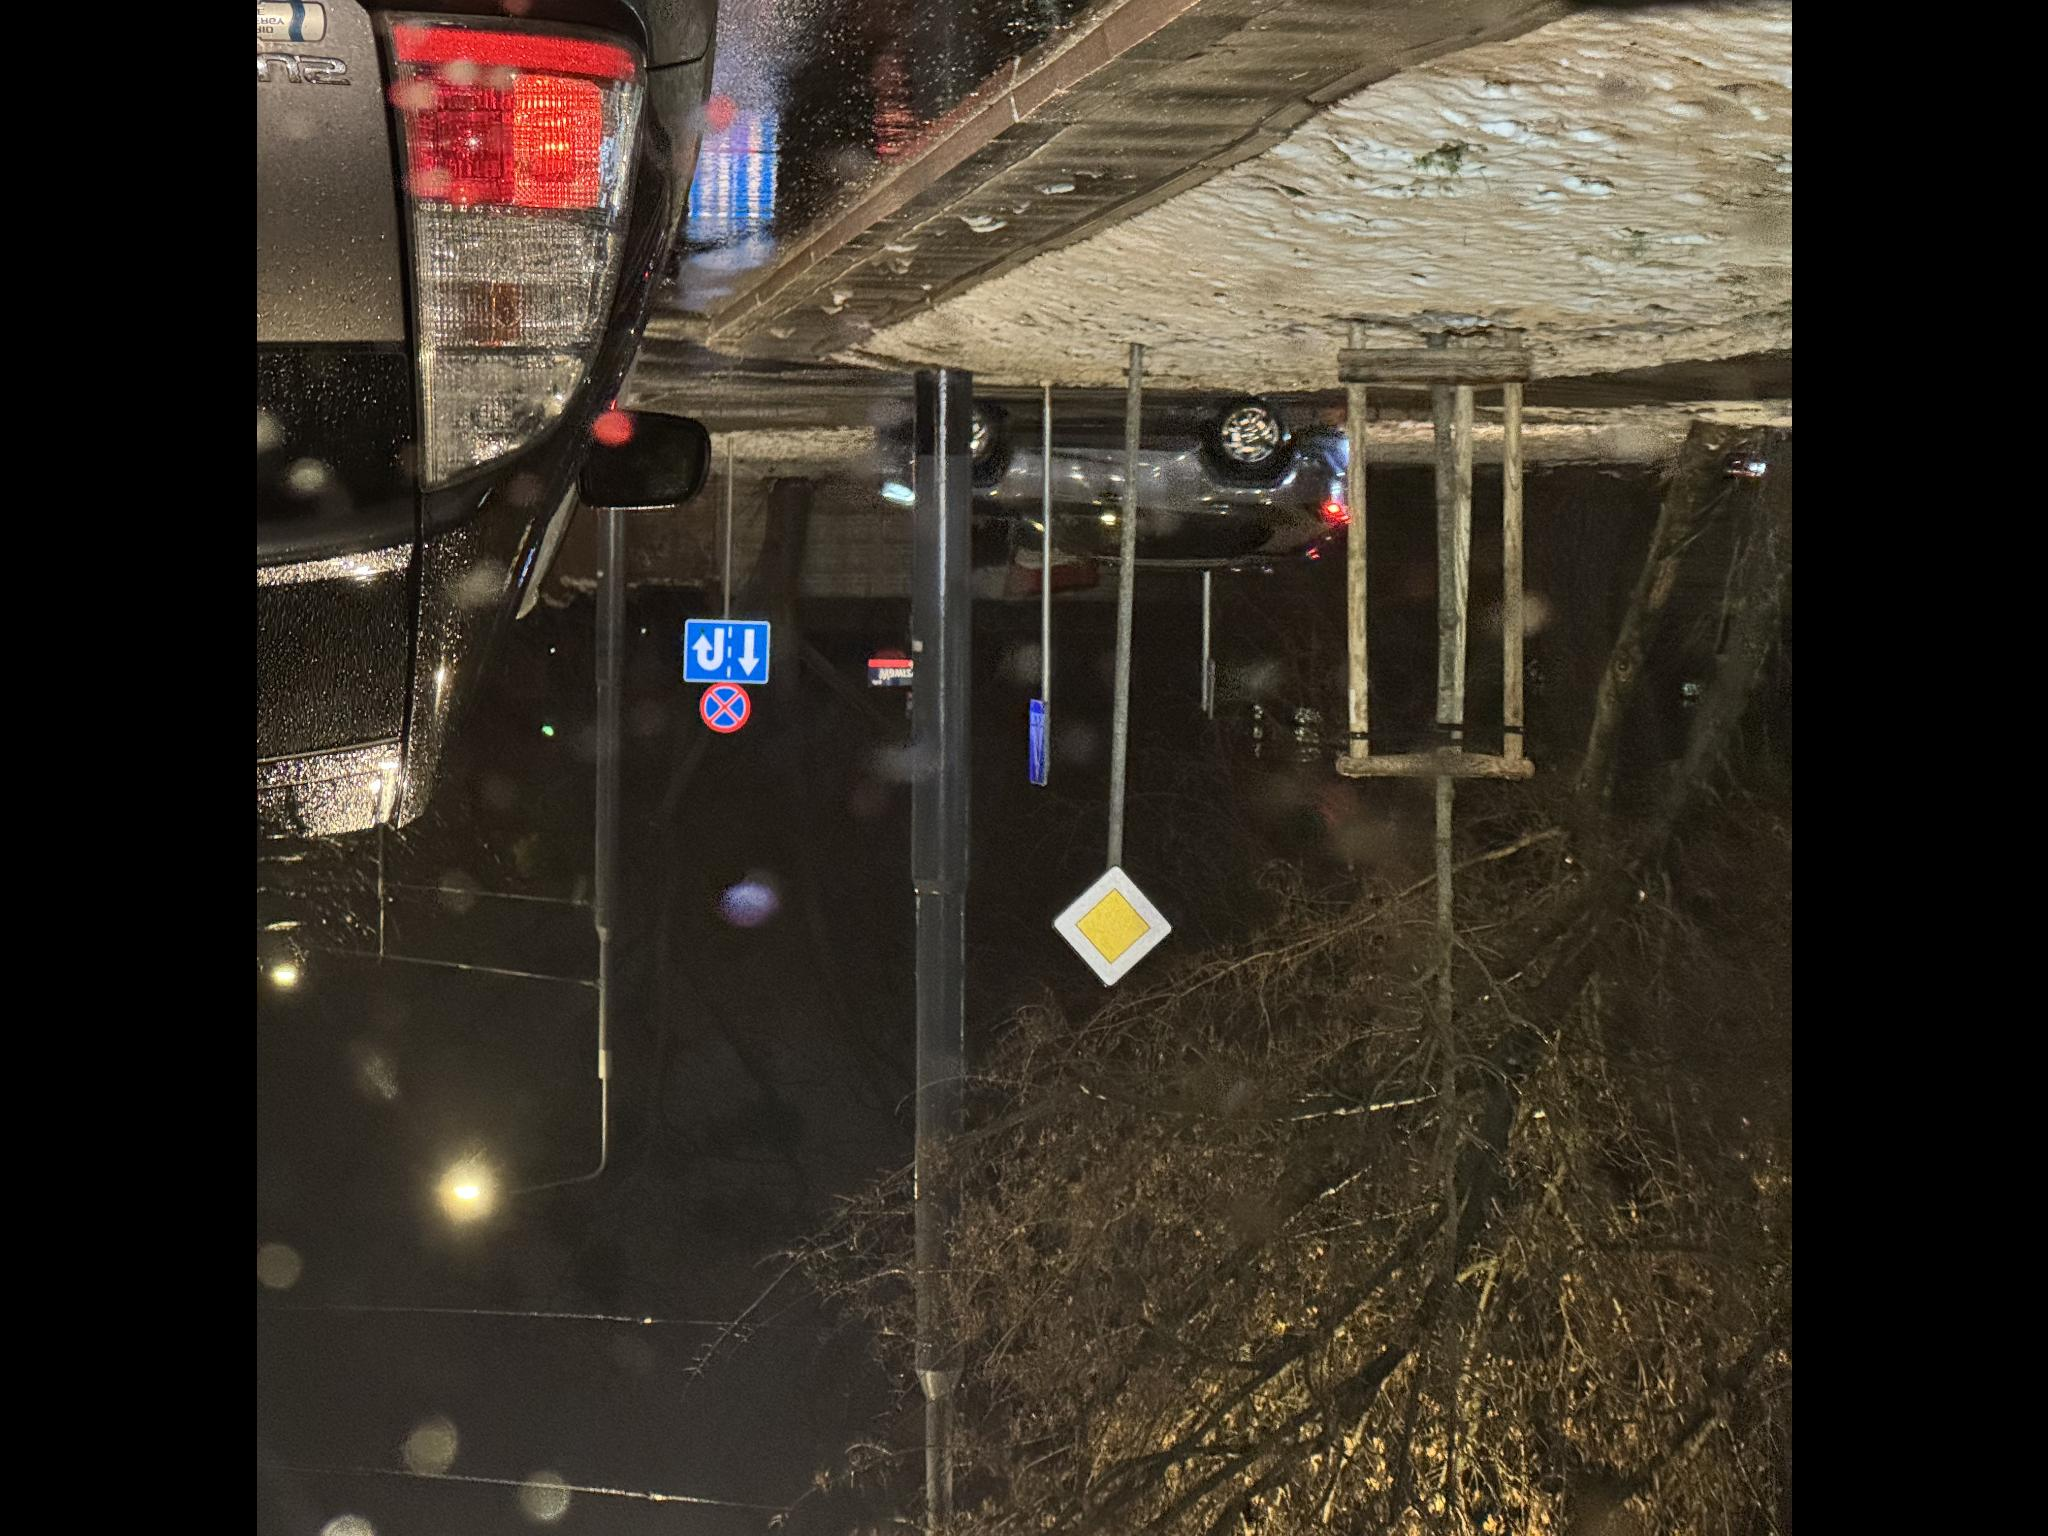information: (866, 872, 988, 996), (618, 1278, 684, 1366), (700, 998, 786, 1020)
prohibitory: (682, 1296, 732, 1350)
